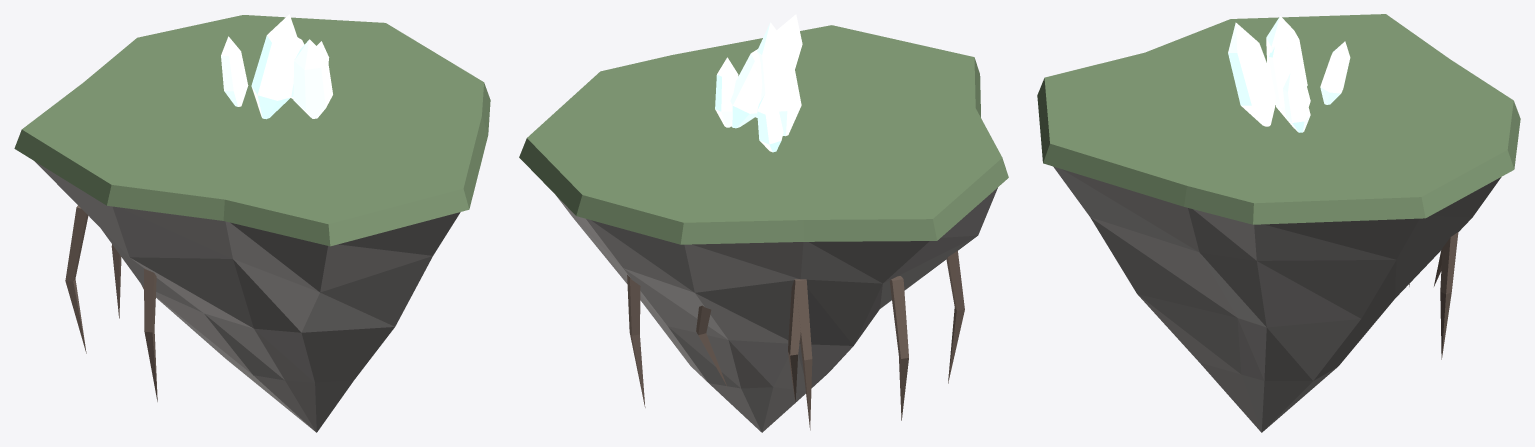
File: Island_Large.glb
3 views of the same model, side by side, from view 1: azimuth 30°, elevation 25°; view 2: azimuth 150°, elevation 25°; view 3: azimuth 270°, elevation 25° (orthographic). The views are drawn at different scales.
Parts seen in each view (by area): view 1: Grass, Rock, Crystal, Roots; view 2: Grass, Rock, Crystal, Roots; view 3: Grass, Rock, Crystal, Roots.
Boxes of the visible parts, x1,y1,x2,y2 form: Grass: (14, 15, 490, 246); Rock: (34, 161, 460, 432); Crystal: (221, 14, 332, 119); Roots: (65, 205, 157, 401); Grass: (519, 25, 1008, 244); Rock: (557, 187, 997, 432); Crystal: (715, 14, 802, 152); Roots: (627, 251, 964, 430); Grass: (1037, 14, 1520, 224); Rock: (1053, 166, 1501, 432); Crystal: (1228, 16, 1350, 132); Roots: (1409, 232, 1458, 359).
Bounding box in the file's own units: 28.03 × 27.4 × 29.37.
